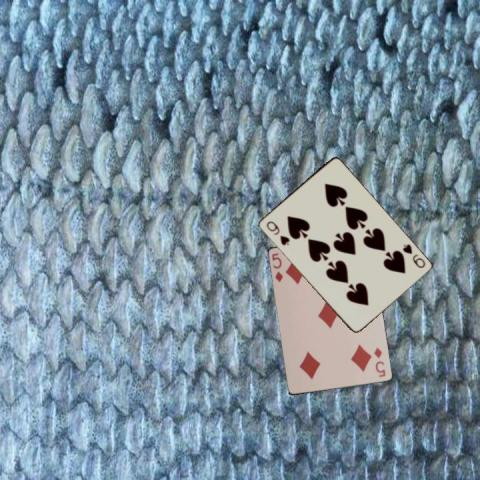5d: (371, 344, 387, 378), (269, 250, 285, 283)
9s: (262, 218, 290, 247), (399, 241, 427, 270)
